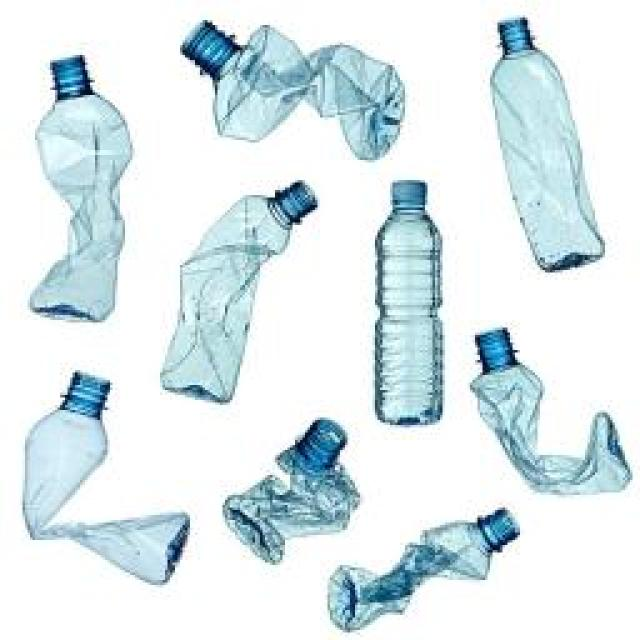bottle: (159, 179, 319, 404), (23, 375, 192, 585), (177, 18, 408, 162), (487, 13, 607, 272), (27, 52, 133, 323), (473, 325, 630, 495), (324, 510, 519, 632), (225, 420, 360, 567), (377, 178, 443, 425)
